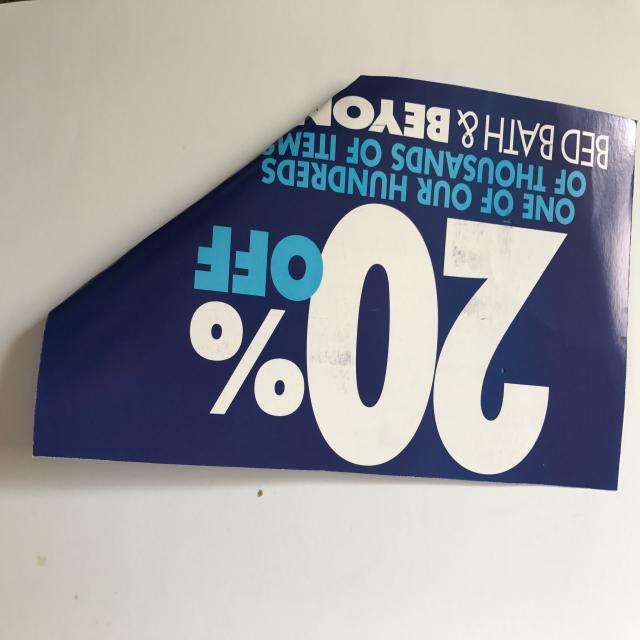paper: (31, 74, 636, 497)
